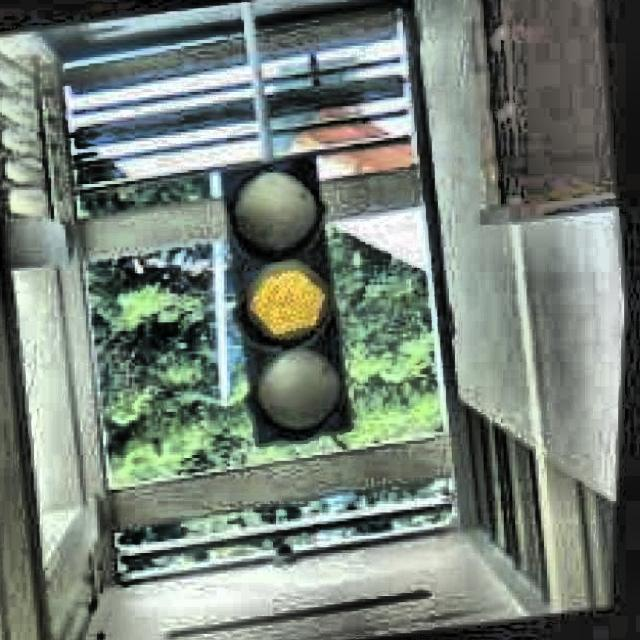yellow: (226, 144, 378, 445)
